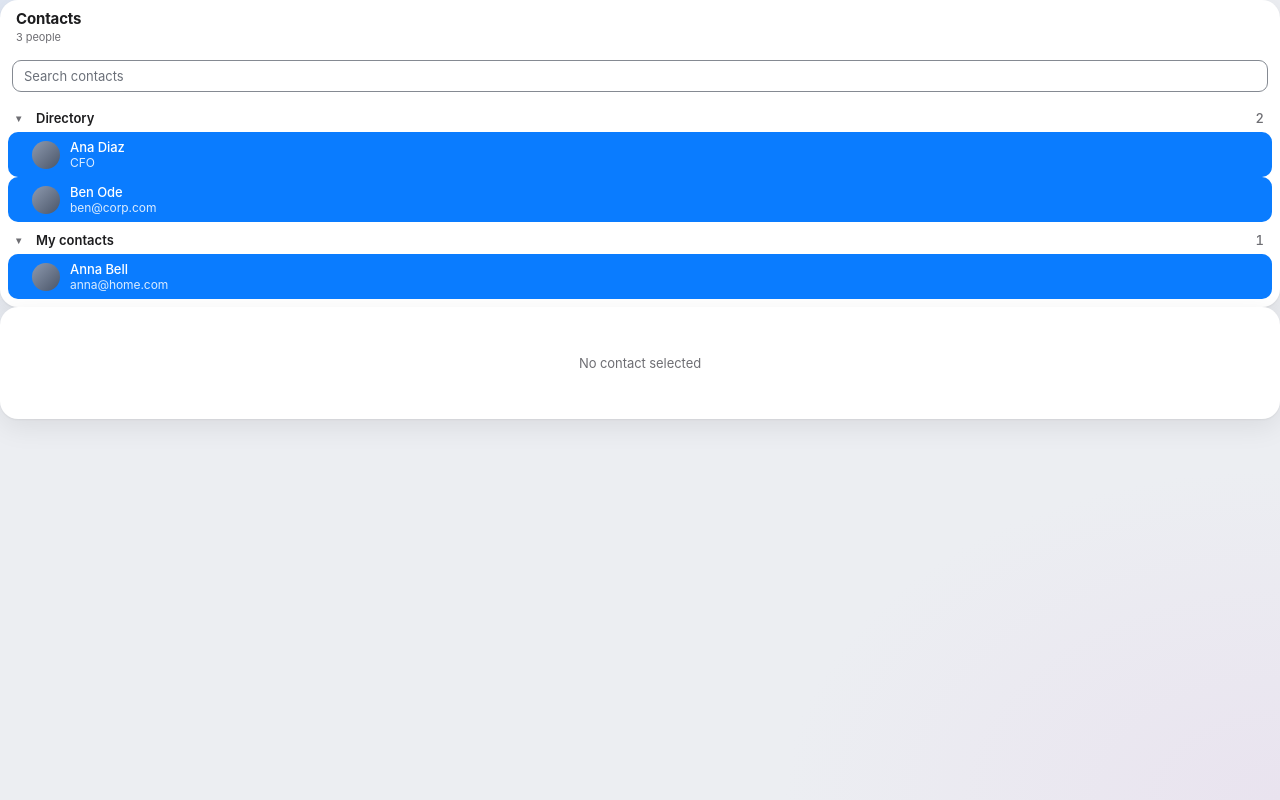
Contacts view › shows the directory and my contacts as groups with counts, and folds them
The width and height of the screenshot is (1280, 800).
Expected: the text "Ana Diaz" is shown, [70,139,125,155]
Expected: the text "CFO" is shown, [70,155,95,170]
Folding a group hides its people.
Click the button "▾ Directory 2". click: (65, 118)
box: [8,104,1272,132]
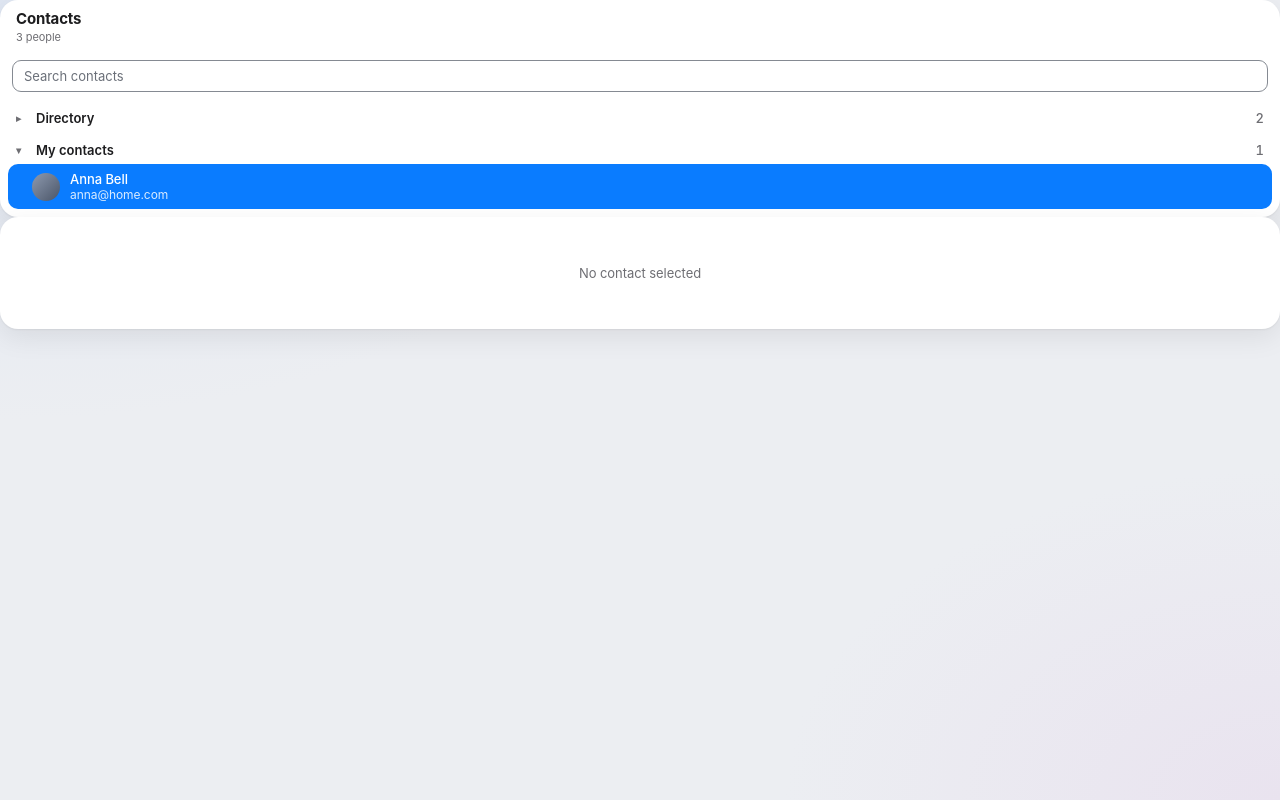
Now the option "Ana Diaz" is gone
Click the button "▸ Directory 2". click: (65, 118)
box: [8,104,1272,132]
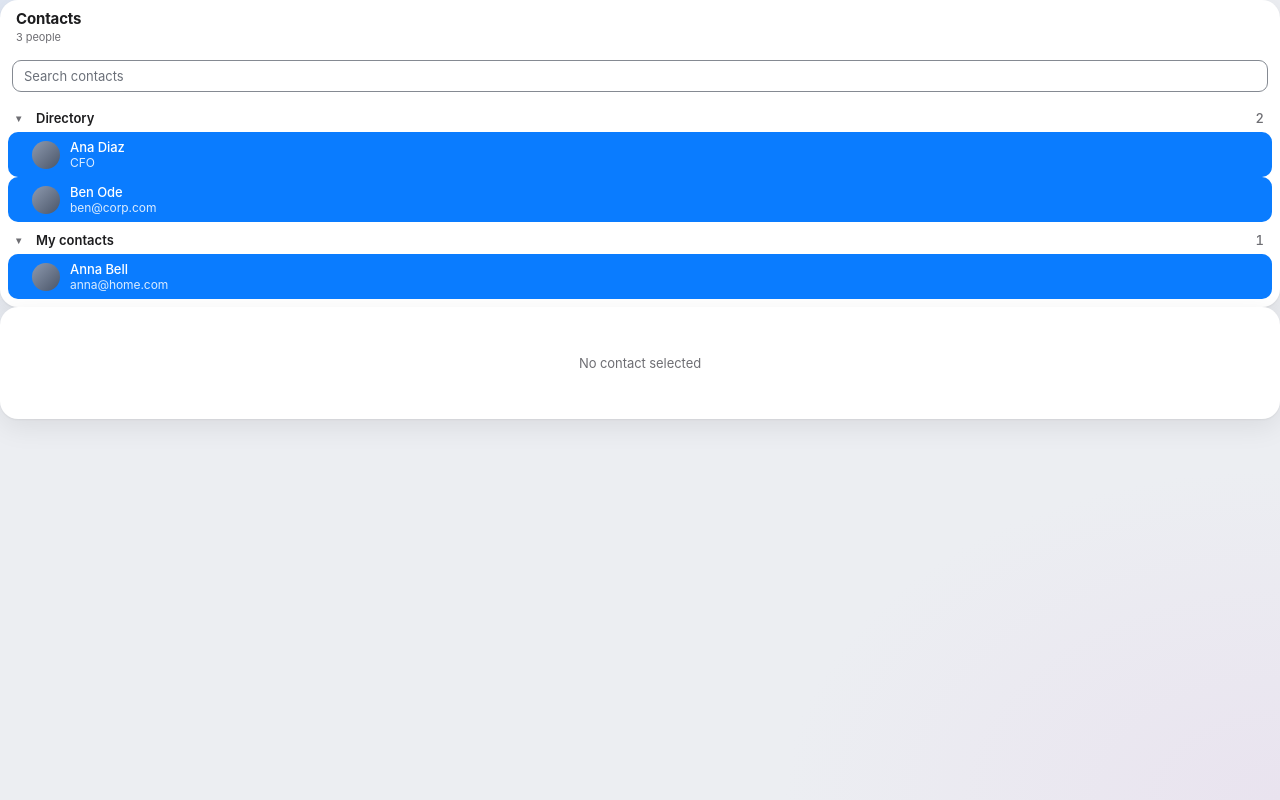
Now the text "Ana Diaz" is shown, box [70,139,125,155]
